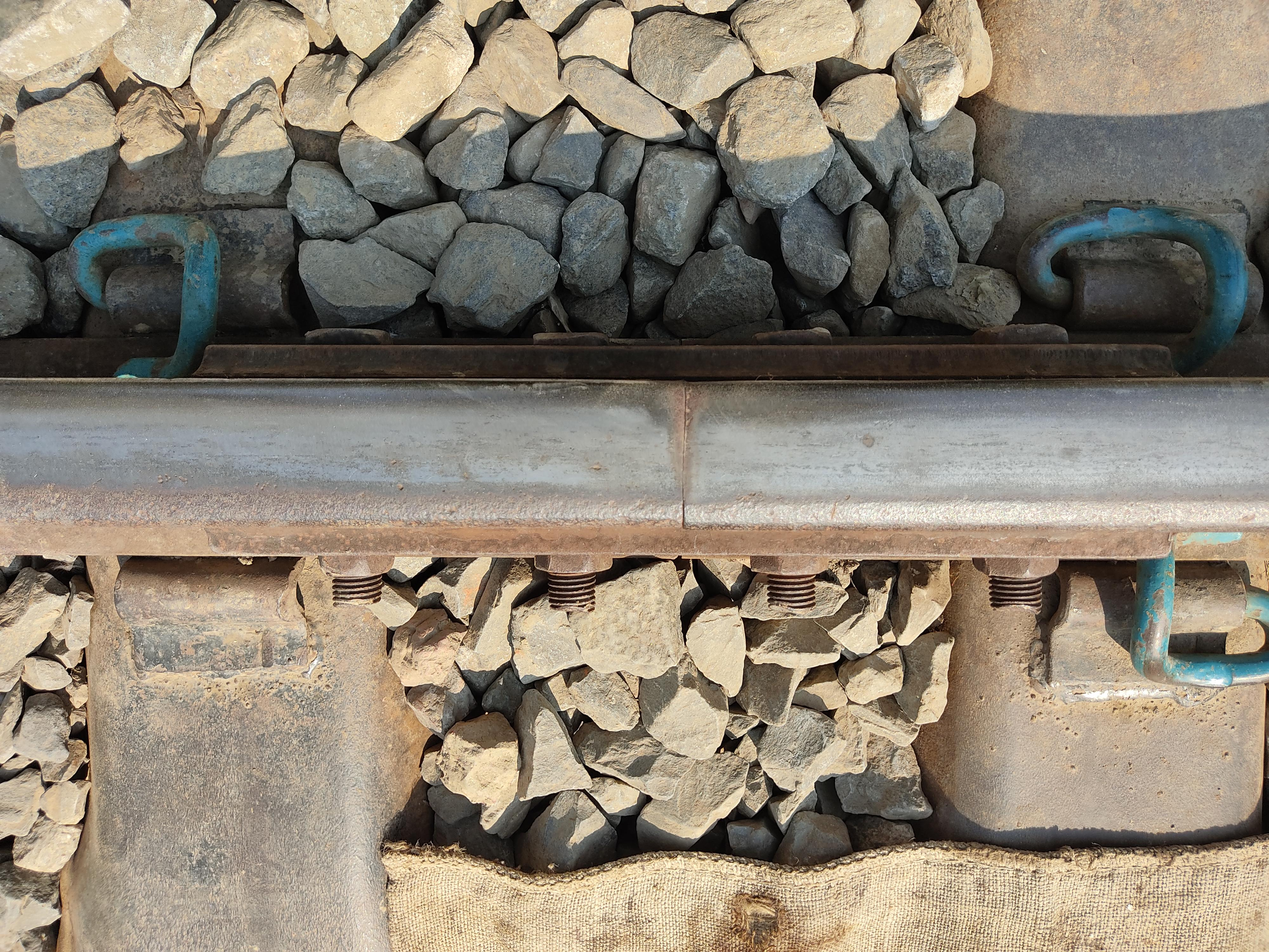person: (583, 368, 783, 562)
